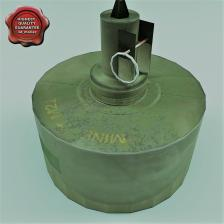M21: (10, 0, 208, 215)
